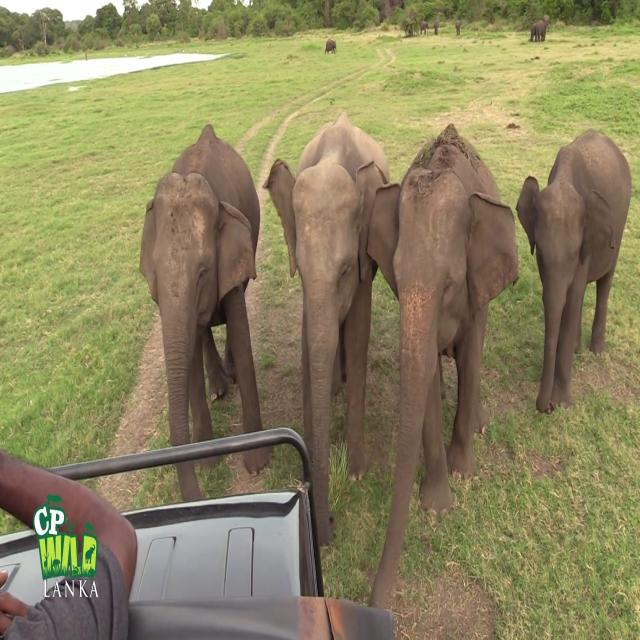Elephant: (366, 122, 520, 610), (262, 110, 394, 547), (137, 120, 271, 497), (515, 128, 632, 414), (325, 38, 336, 54)
person: (0, 448, 138, 640)
